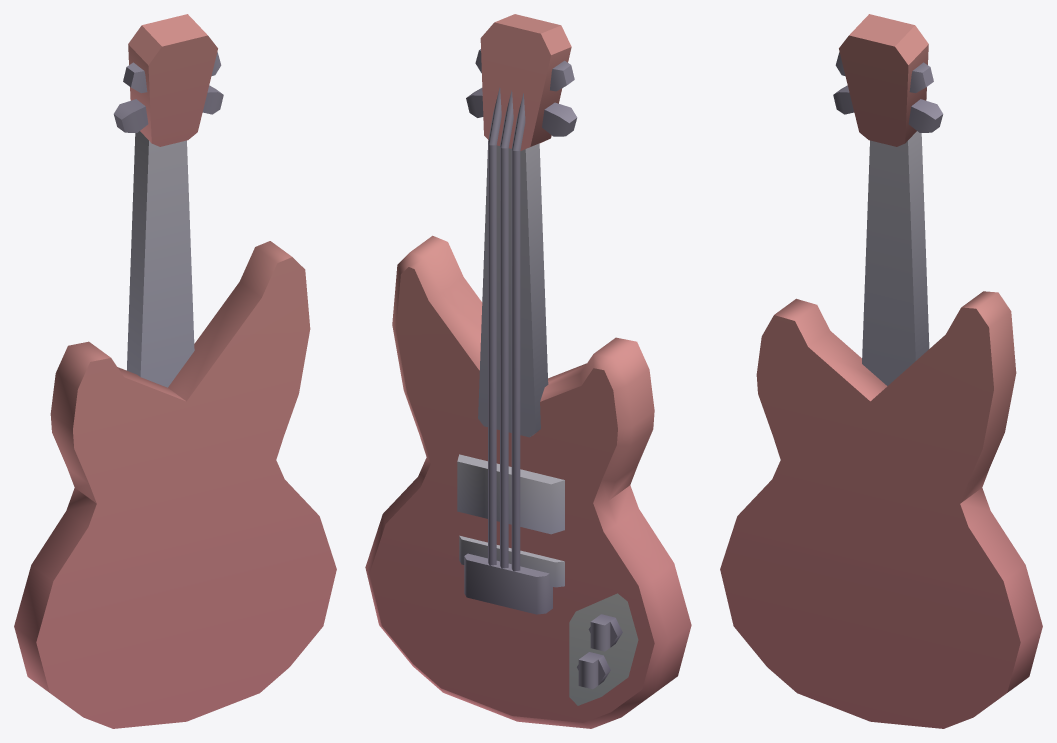
Rendered from instrument-guitar-electric.glb.
The picture shows the model from 3 angles, left to right: view 1: azimuth 30°, elevation 25°; view 2: azimuth 150°, elevation 25°; view 3: azimuth 330°, elevation 25°; orthographic projection.
Parts seen in each view (by area): view 1: instrument-guitar-electric; view 2: instrument-guitar-electric; view 3: instrument-guitar-electric.
Part boxes in pixels (box(x1,y1,x2,y2)): instrument-guitar-electric: box(14, 14, 336, 728); instrument-guitar-electric: box(365, 14, 691, 728); instrument-guitar-electric: box(720, 14, 1042, 728).
Bounding box in the file's own units: 0.5086 × 1.11 × 0.111.
